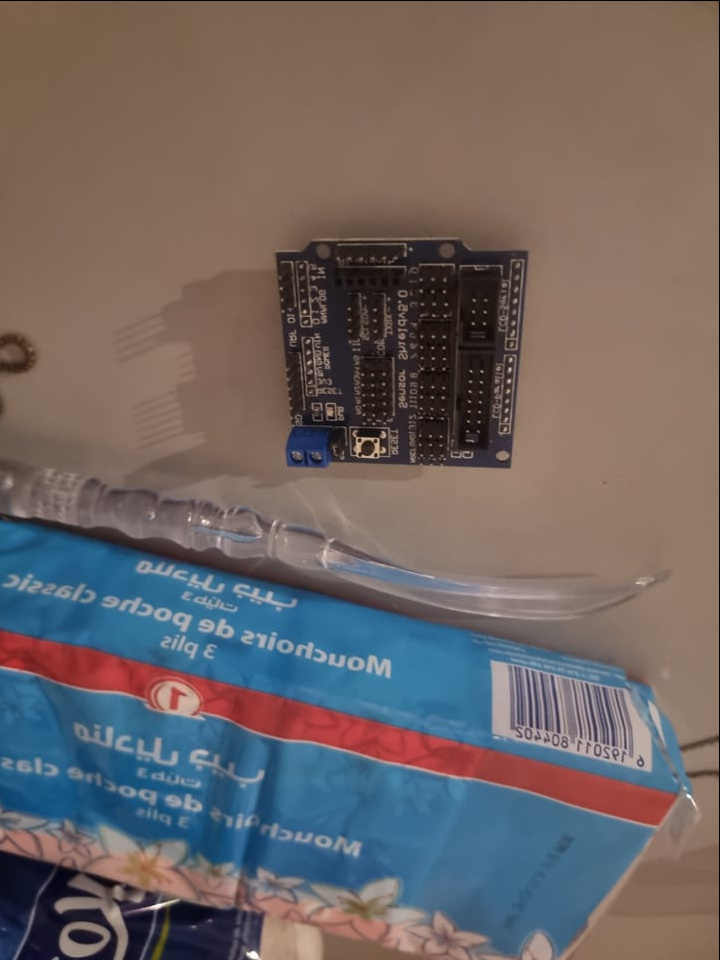5V EXPANSION: (274, 237, 530, 470)
